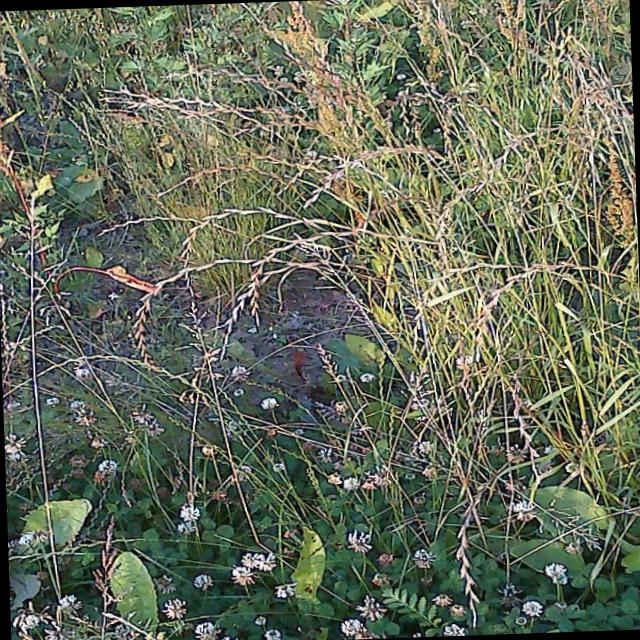Lolium: (221, 219, 367, 325), (463, 256, 630, 334), (179, 201, 436, 251), (128, 257, 257, 354), (34, 350, 220, 410), (140, 91, 320, 138), (302, 142, 458, 195), (413, 363, 495, 442), (171, 64, 307, 102), (449, 484, 481, 629), (479, 130, 539, 192), (433, 181, 491, 236), (100, 209, 232, 233), (505, 378, 542, 451), (440, 99, 486, 150), (530, 55, 556, 128), (394, 80, 422, 136), (550, 26, 573, 94)
